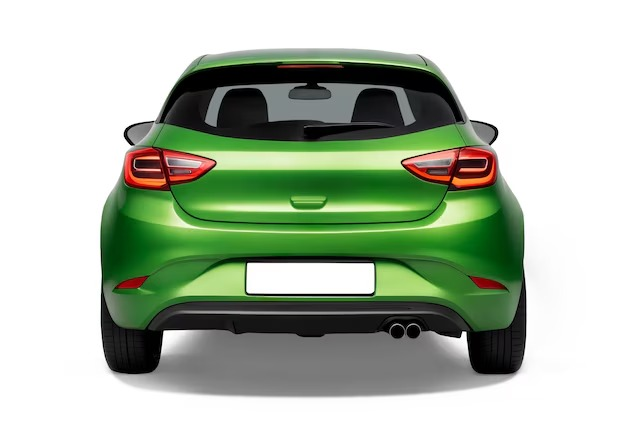car: (96, 43, 512, 386), (104, 56, 517, 374)
